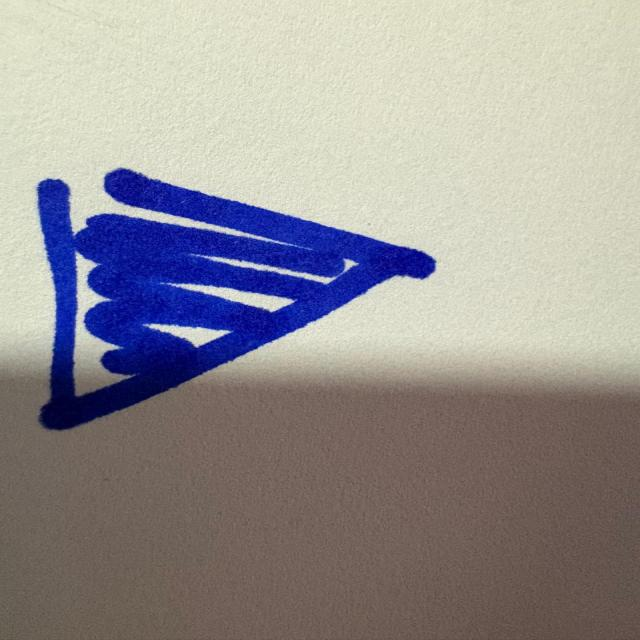Triangle: (33, 157, 441, 441)
